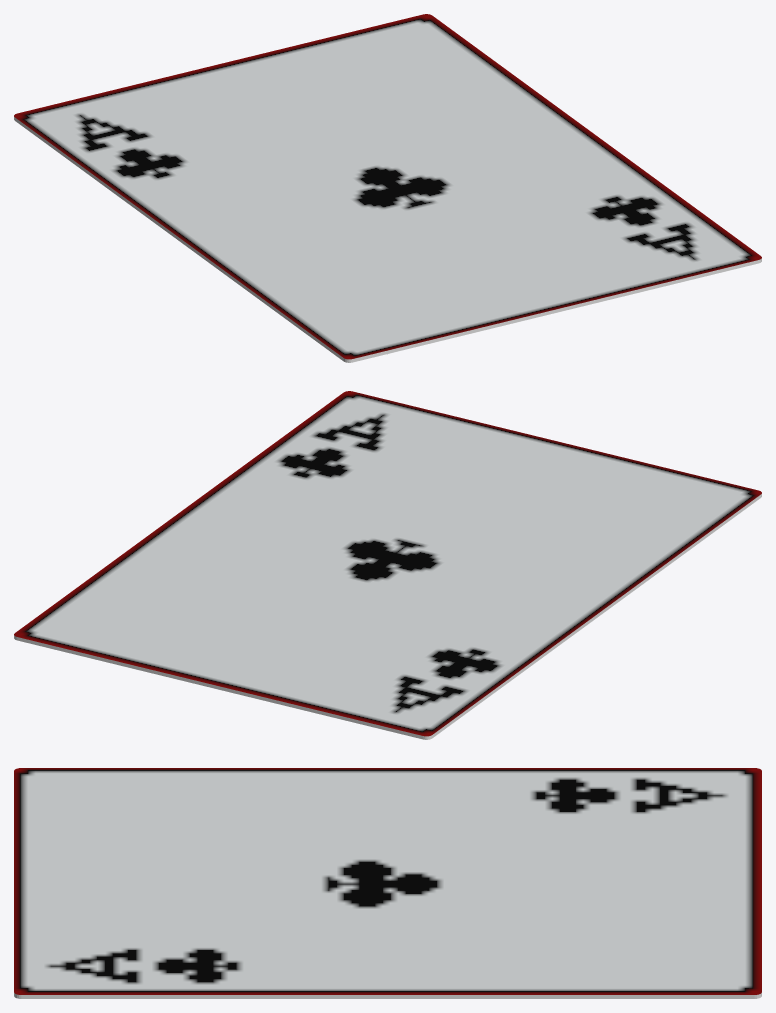
Rendered from Card.glb.
The picture shows the model from 3 angles, top to bottom: view 1: azimuth 30°, elevation 25°; view 2: azimuth 150°, elevation 25°; view 3: azimuth 270°, elevation 25°; orthographic projection. The views are drawn at different scales.
Parts seen in each view (by area): view 1: Card; view 2: Card; view 3: Card.
Part boxes in pixels (<box>): Card: <box>14,14,761,362</box>; Card: <box>14,391,761,739</box>; Card: <box>14,768,761,998</box>.
Bounding box in the file's own units: 0.0625 × 0.0005 × 0.087.
Materials: 3 (2 with a texture image).
